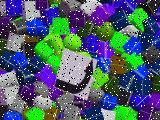Left: (54, 48, 98, 100)
